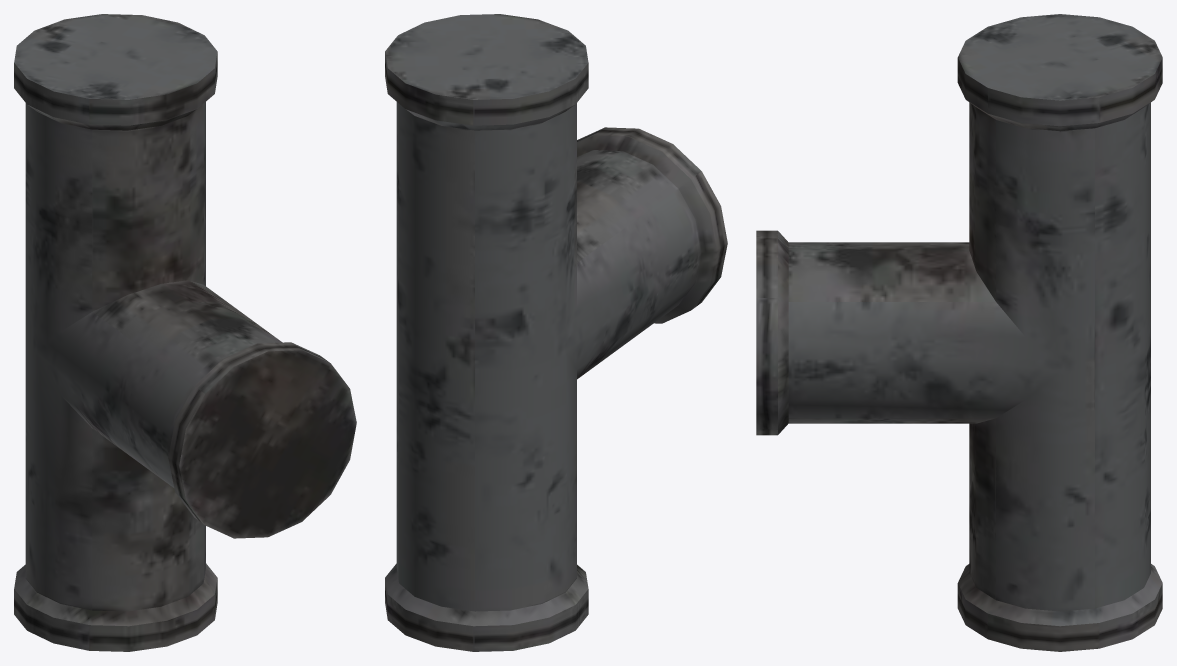
File: duct-pipe-tee--2.gltf
3 renders of one model, left to right at view 1: azimuth 30°, elevation 25°; view 2: azimuth 150°, elevation 25°; view 3: azimuth 270°, elevation 25°, orthographic.
Visible parts, largest first — view 1: Cylinder.109; view 2: Cylinder.109; view 3: Cylinder.109.
Part boxes in pixels (box(x1,y1,x2,y2)): Cylinder.109: box(14, 14, 356, 651); Cylinder.109: box(385, 14, 727, 651); Cylinder.109: box(756, 14, 1162, 651).
Bounding box in the file's own units: 1.25 × 3.7 × 2.47.
1 material, 1 textured.
